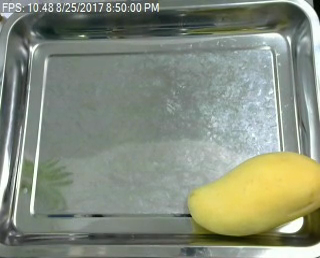Mango: (184, 146, 320, 236)
